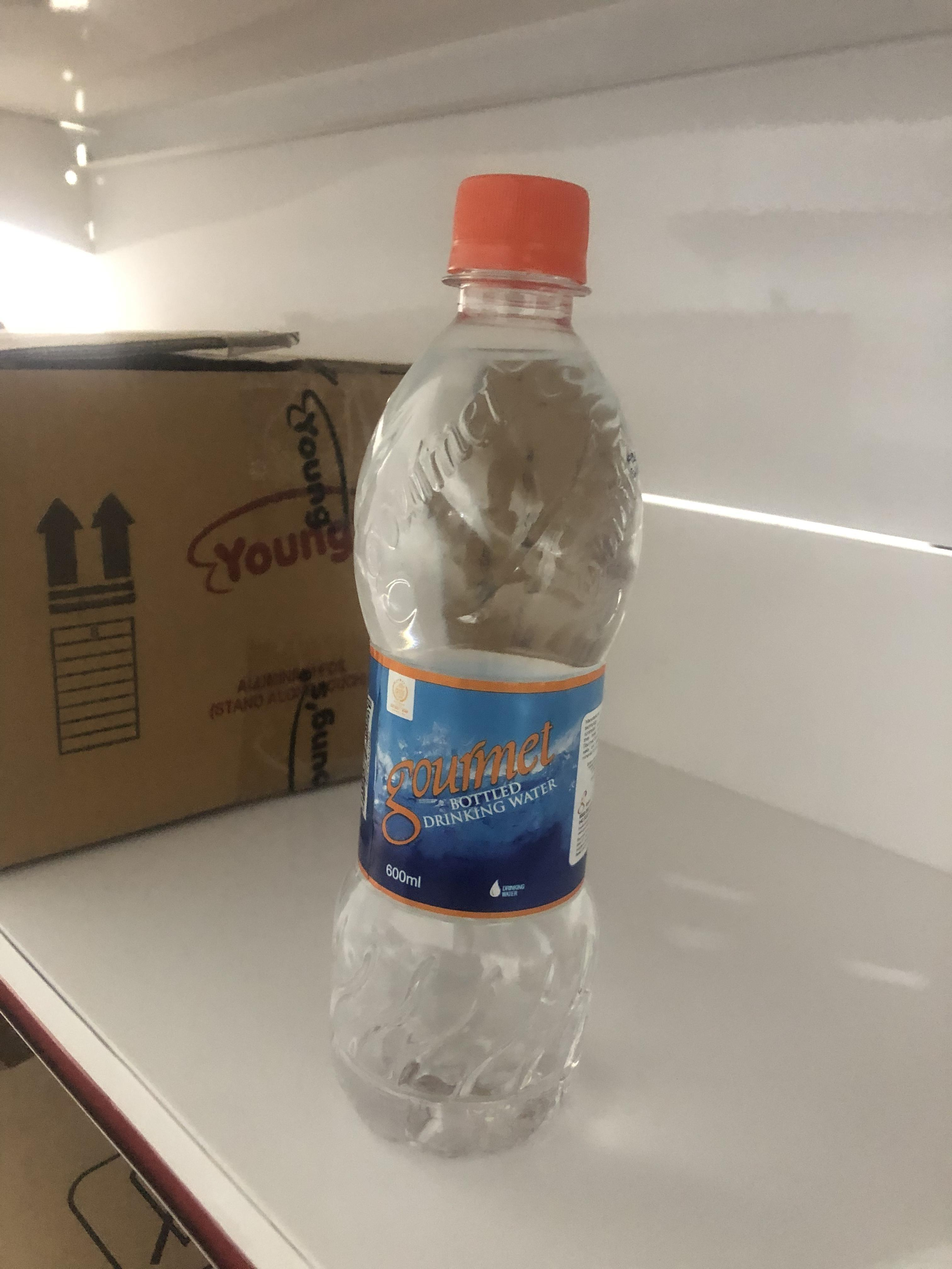bottle-plastic: (319, 161, 638, 1159)
